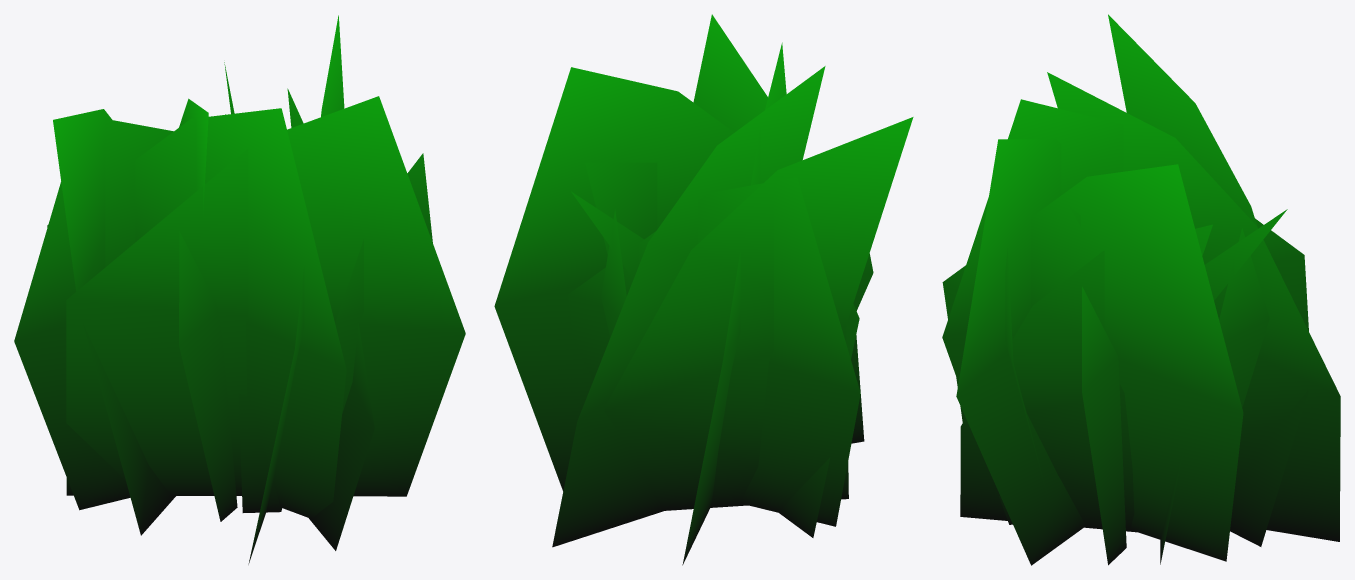
File: TGV_Grass_Patch_02A.fbx
The picture shows the model from 3 angles, left to right: view 1: azimuth 30°, elevation 25°; view 2: azimuth 150°, elevation 25°; view 3: azimuth 270°, elevation 25°; orthographic projection. The views are drawn at different scales.
Parts seen in each view (by area): view 1: TGV_Grass_Patch_02A_LOD0; view 2: TGV_Grass_Patch_02A_LOD0; view 3: TGV_Grass_Patch_02A_LOD0.
Boxes of the visible parts, x1,y1,x2,y2 form: TGV_Grass_Patch_02A_LOD0: (14, 15, 465, 564); TGV_Grass_Patch_02A_LOD0: (494, 14, 913, 565); TGV_Grass_Patch_02A_LOD0: (942, 14, 1340, 565).
Bounding box in the file's own units: 86.01 × 96.66 × 84.12.
